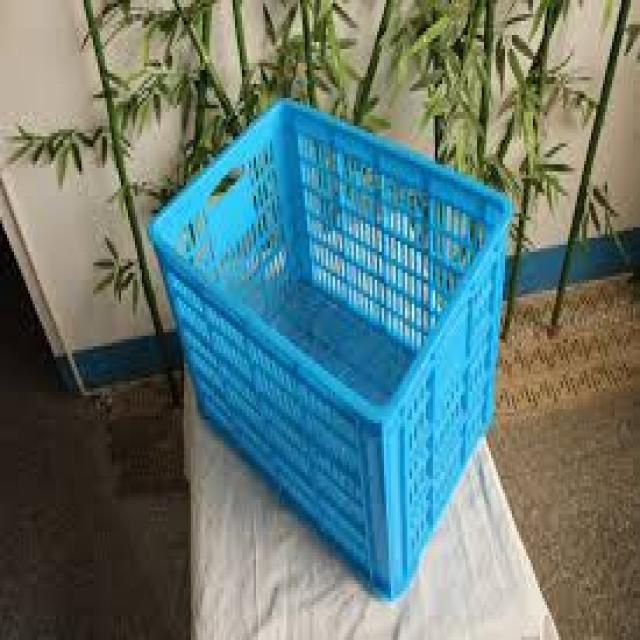basket: (53, 60, 587, 603)
